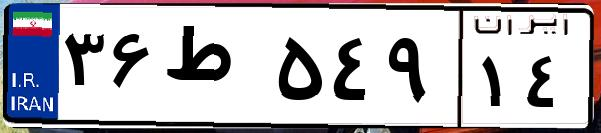1: (475, 38, 525, 113)
3: (57, 26, 110, 100)
4: (330, 28, 385, 110), (525, 38, 570, 115)
5: (270, 28, 330, 110)
6: (110, 28, 158, 98)
9: (385, 28, 445, 110)
ط: (158, 20, 270, 120)
